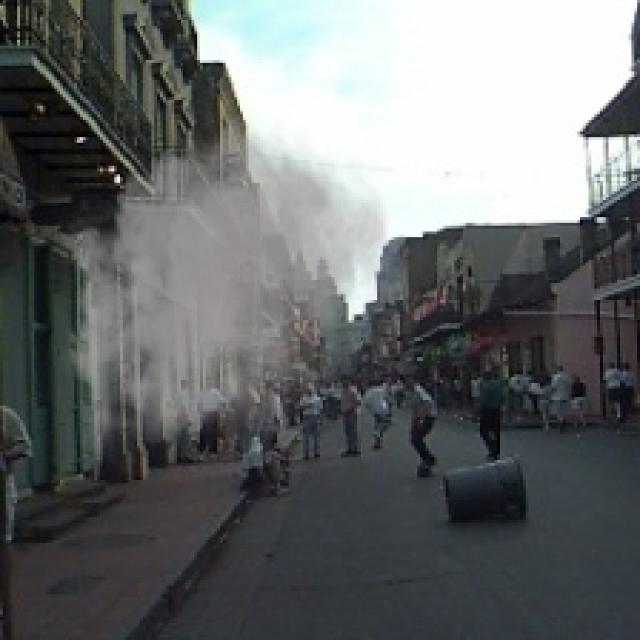smoke: (51, 106, 400, 468)
